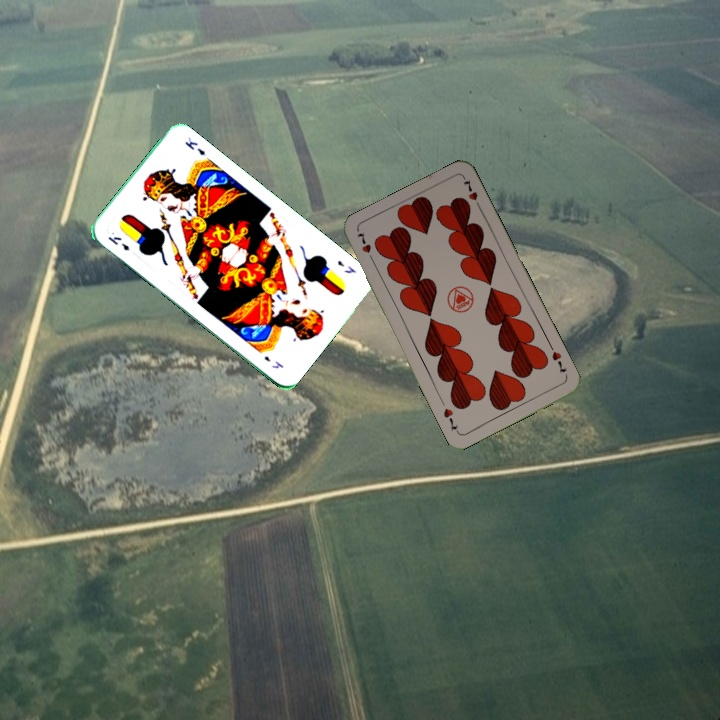EK: (104, 232, 132, 253), (333, 256, 359, 276)
H7: (353, 228, 377, 266), (548, 347, 569, 376)
